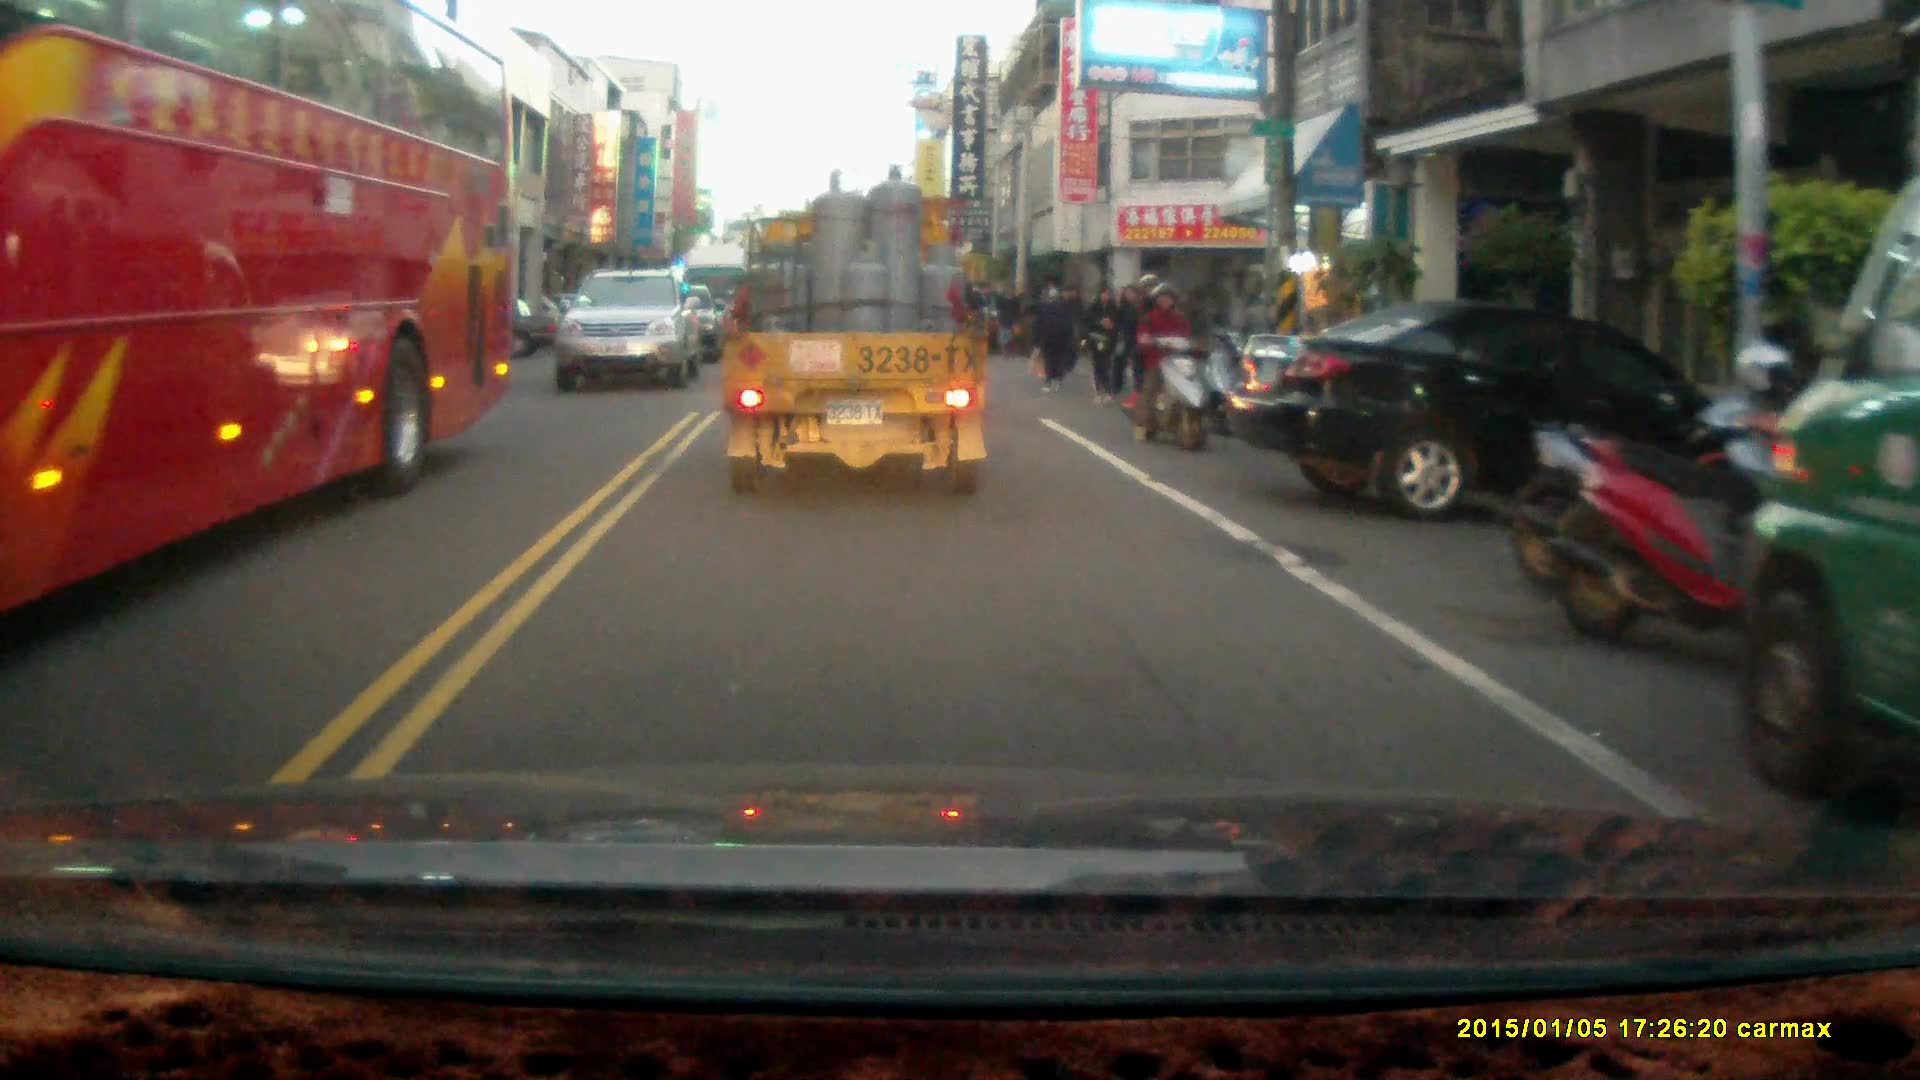pedestrian: (1030, 279, 1072, 393), (1086, 283, 1124, 407), (995, 279, 1022, 356)
rider: (1126, 271, 1207, 449)
vehicle: (1, 7, 522, 621), (1220, 302, 1771, 518), (1733, 214, 1920, 788), (720, 163, 996, 500), (555, 269, 702, 394)
